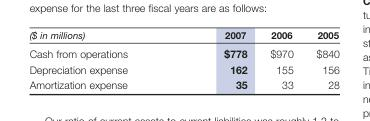table: (28, 28, 338, 90)
table column: (28, 28, 175, 90), (175, 28, 258, 90), (258, 28, 304, 90), (304, 28, 338, 90)
table column header: (28, 28, 338, 43)
table row: (28, 43, 338, 60), (28, 60, 338, 76), (28, 28, 338, 43), (28, 76, 338, 90)
